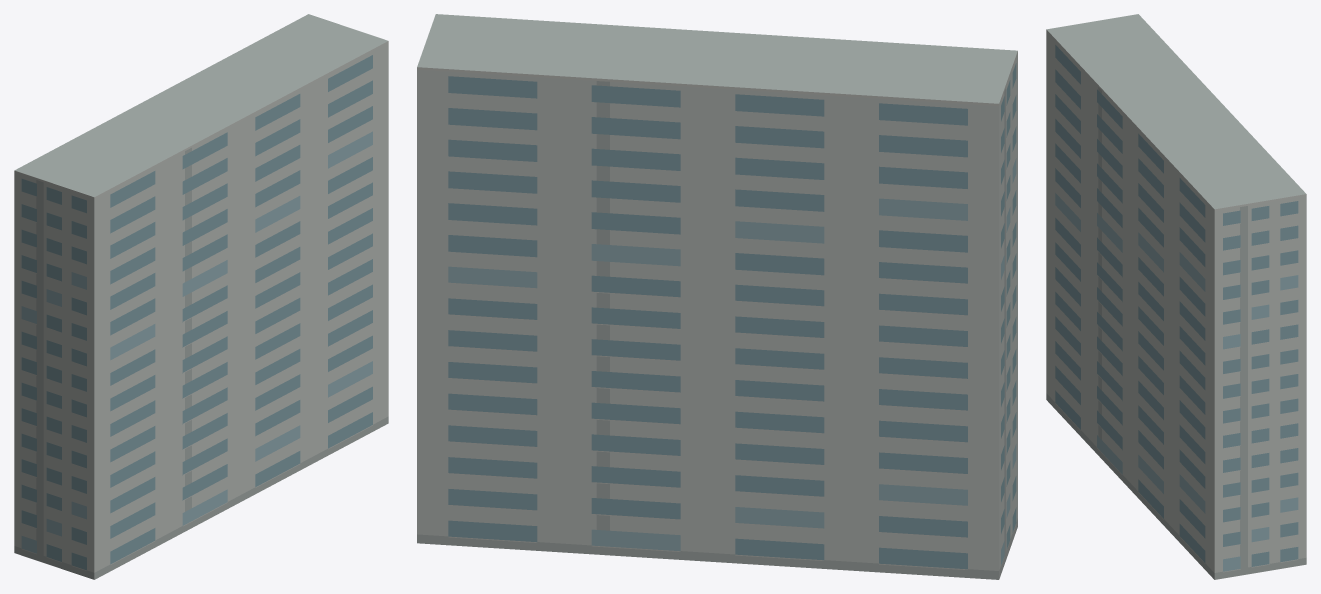
File: residential-a1673ba4-b66e-4648-8c6e-597079210ef2.glb
3 views of the same model, side by side, from view 1: azimuth 30°, elevation 25°; view 2: azimuth 150°, elevation 25°; view 3: azimuth 270°, elevation 25° (orthographic). The views are drawn at different scales.
Parts seen in each view (by area): view 1: residential-a1673ba4-b66e-4648-8c6e-597079210ef2.tmp; view 2: residential-a1673ba4-b66e-4648-8c6e-597079210ef2.tmp; view 3: residential-a1673ba4-b66e-4648-8c6e-597079210ef2.tmp.
Boxes of the visible parts, x1,y1,x2,y2 form: residential-a1673ba4-b66e-4648-8c6e-597079210ef2.tmp: (14,14,388,579); residential-a1673ba4-b66e-4648-8c6e-597079210ef2.tmp: (417,14,1017,579); residential-a1673ba4-b66e-4648-8c6e-597079210ef2.tmp: (1046,14,1306,579).
Bounding box in the file's own units: 51.75 × 45.75 × 29.12.
